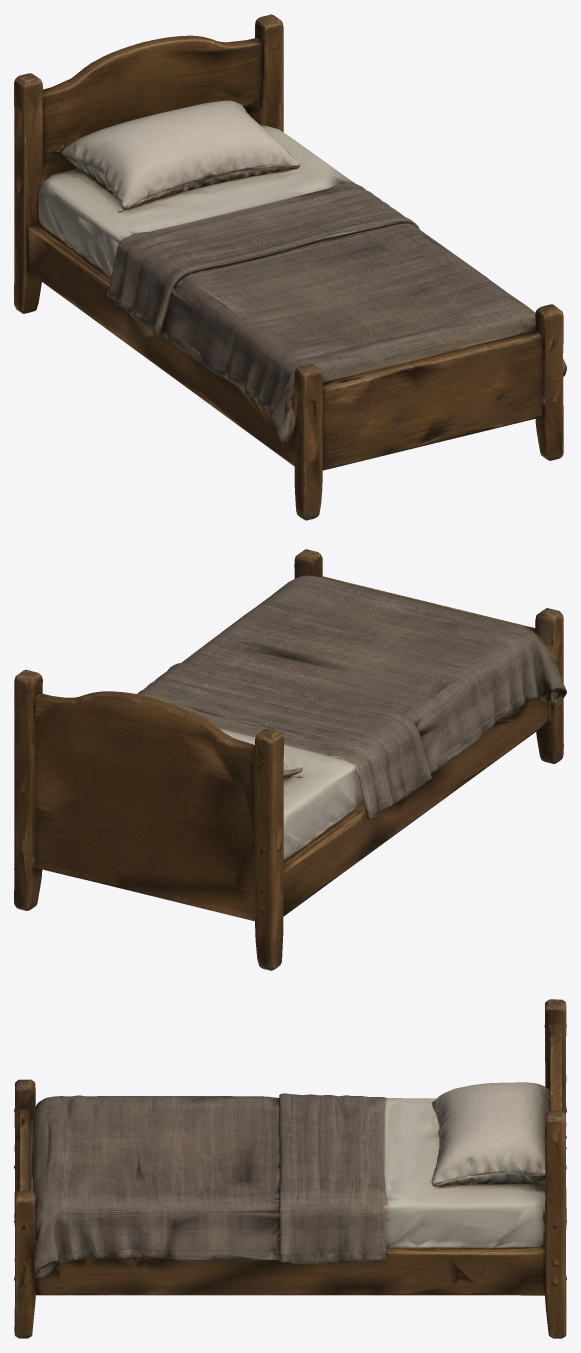
Rendered from Cama.glb.
3 views of the same model, one above another, from view 1: azimuth 30°, elevation 25°; view 2: azimuth 150°, elevation 25°; view 3: azimuth 270°, elevation 25° (orthographic). The views are drawn at different scales.
Visible parts, largest first — view 1: node_0; view 2: node_0; view 3: node_0.
Boxes of the visible parts, <box> form: node_0: <box>14,14,566,520</box>; node_0: <box>14,549,566,970</box>; node_0: <box>14,999,566,1338</box>.
Bounding box in the file's own units: 0.5706 × 0.4517 × 0.9997.
Materials: 1 (1 with a texture image).
